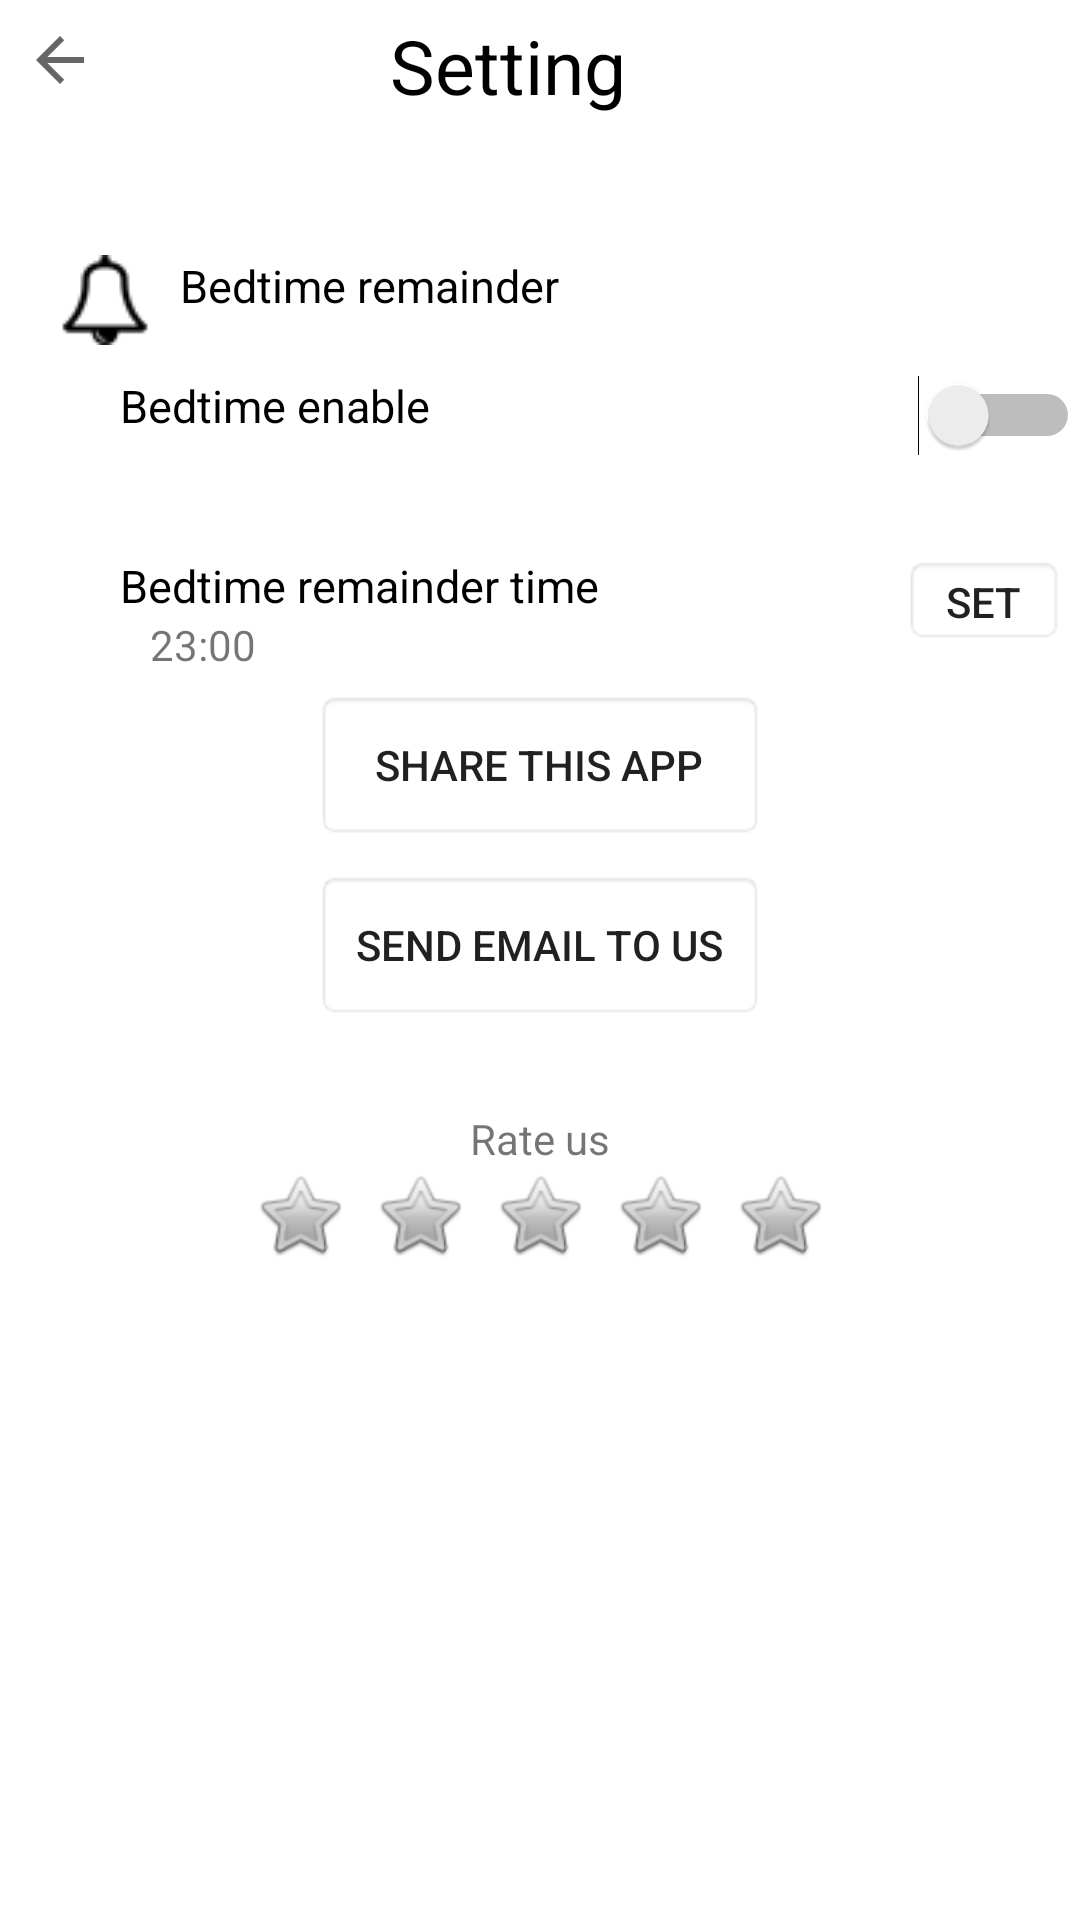

Icon bounding boxes for this 1080px×1920px phone screenshot, format (x1, y1, x2, y2):
bell: (62, 255, 148, 345)
star off: (261, 1177, 341, 1255), (381, 1177, 461, 1255), (501, 1177, 581, 1255), (621, 1177, 701, 1255), (741, 1177, 821, 1255)
